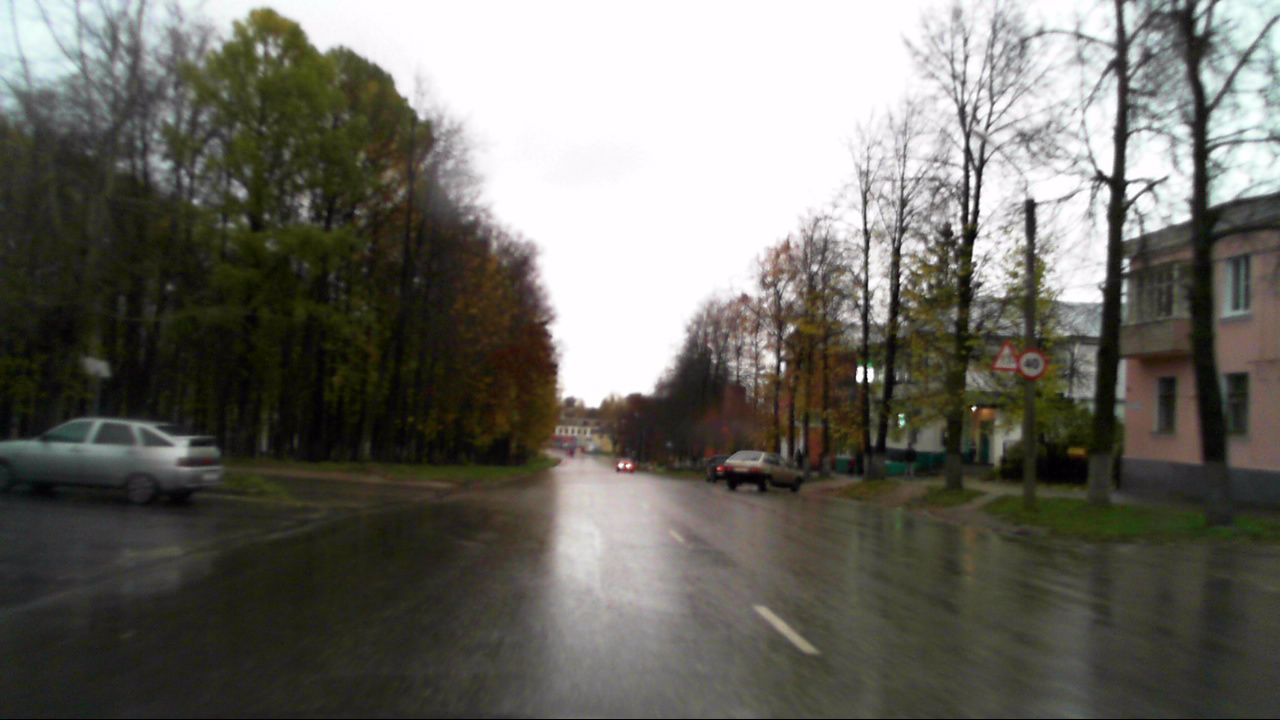speed_warning_40: (1017, 348, 1046, 380)
